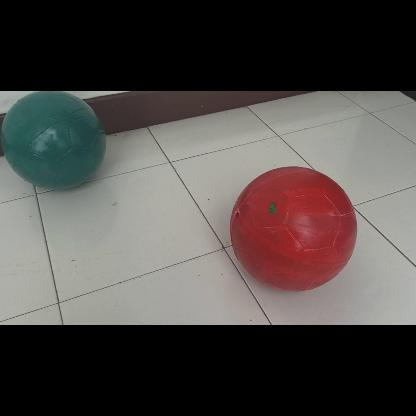red_ball: (232, 167, 354, 290)
